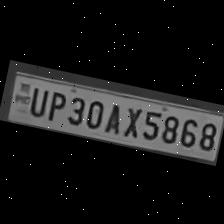0: (80, 93, 108, 129)
3: (61, 90, 86, 126)
5: (136, 104, 162, 140)
6: (174, 113, 200, 147)
8: (156, 110, 182, 144), (194, 116, 220, 150)
A: (101, 97, 125, 133)
P: (42, 86, 68, 122)
U: (24, 82, 48, 116)
X: (119, 101, 144, 137)
